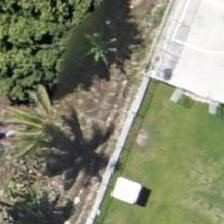Kelapa_Sawit: (0, 84, 80, 174)
